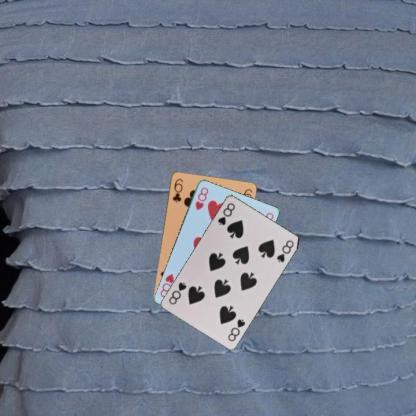6c: (170, 176, 184, 203)
8h: (192, 184, 210, 212)
8s: (225, 316, 247, 343), (215, 200, 236, 226)
